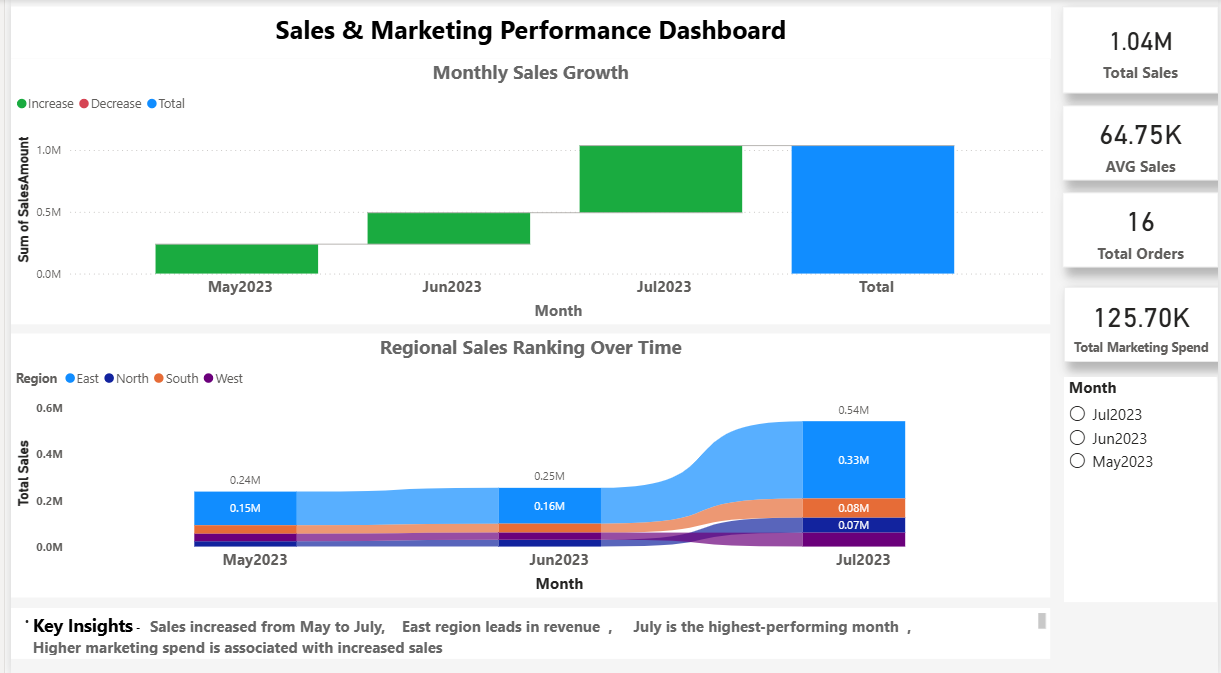

Layout of this report page (visuals, bound fields, positions):
{"tool":"powerbi","page":{"name":"Page 1","canvas":[1280,720],"ordinal":0},"visuals":[{"type":"card","fields":{"Values":["Sales.Total Sales"]},"box":[1115,8,165.4,92.3],"z":0},{"type":"card","fields":{"Values":["Sales.AVG Sales"]},"box":[1114.6,112.9,165.4,79.5],"z":1000},{"type":"card","fields":{"Values":["Sales.Total Orders"]},"box":[1115,205.2,165.4,79.5],"z":3000},{"type":"card","fields":{"Values":["Sales.Total Marketing Spend"]},"box":[1116.6,305.4,163.8,79.5],"z":4000},{"type":"waterfallChart","title":"Monthly Sales Growth ","fields":{"Y":["Sum(Sales.SalesAmount)"],"Category":["Sales.Month"]},"box":[0,63.6,1102.3,281.5],"z":5000},{"type":"textbox","box":[0,8.1,1102.7,55.1],"z":6000},{"type":"ribbonChart","title":"Regional Sales Ranking Over Time ","fields":{"Category":["Sales.Month"],"Y":["Sales.Total Sales"],"Series":["Sales.Region"]},"box":[0,354.7,1102.3,279.9],"z":7000},{"type":"textbox","box":[0,645.8,1102.3,54.1],"z":7002},{"type":"listSlicer","fields":{"Values":["Sales.Month"]},"box":[1116.6,400.8,162.2,238.6],"z":7003}]}

Visuals, with their boxes in screenshot pixels (x1, y1, x2, y2), scaled from the page's 1280x720 canvas onto the 1221x673 screenshot:
card - Sales.Total Sales: bbox=[1064, 7, 1220, 94]
card - Sales.AVG Sales: bbox=[1063, 106, 1220, 180]
card - Sales.Total Orders: bbox=[1064, 192, 1220, 266]
card - Sales.Total Marketing Spend: bbox=[1065, 285, 1220, 360]
"Monthly Sales Growth " waterfallChart: bbox=[0, 59, 1051, 323]
textbox: bbox=[0, 8, 1052, 59]
"Regional Sales Ranking Over Time " ribbonChart: bbox=[0, 332, 1051, 593]
textbox: bbox=[0, 604, 1051, 654]
listSlicer - Sales.Month: bbox=[1065, 375, 1220, 598]
